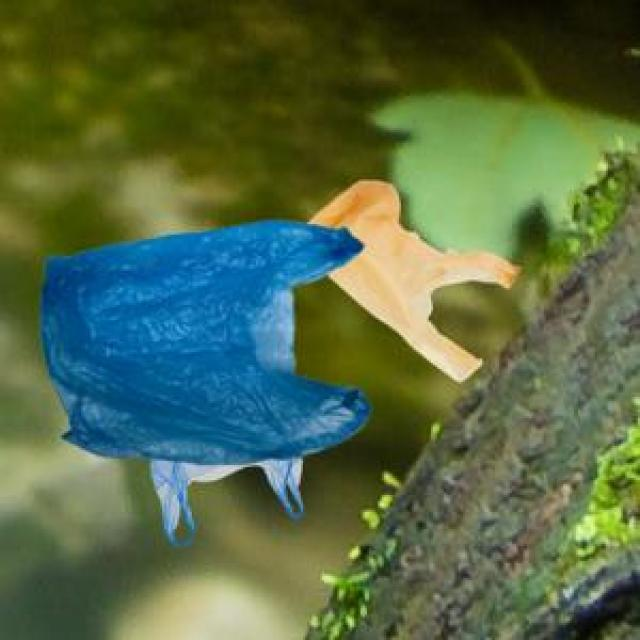plastic: (19, 78, 506, 559)
